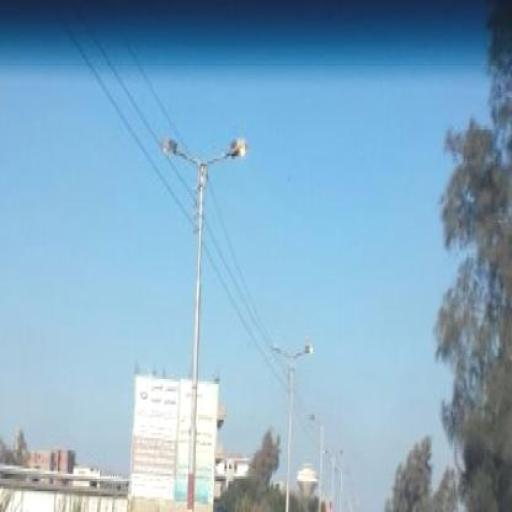street light: (159, 135, 248, 509), (268, 341, 314, 510), (310, 414, 334, 510)
